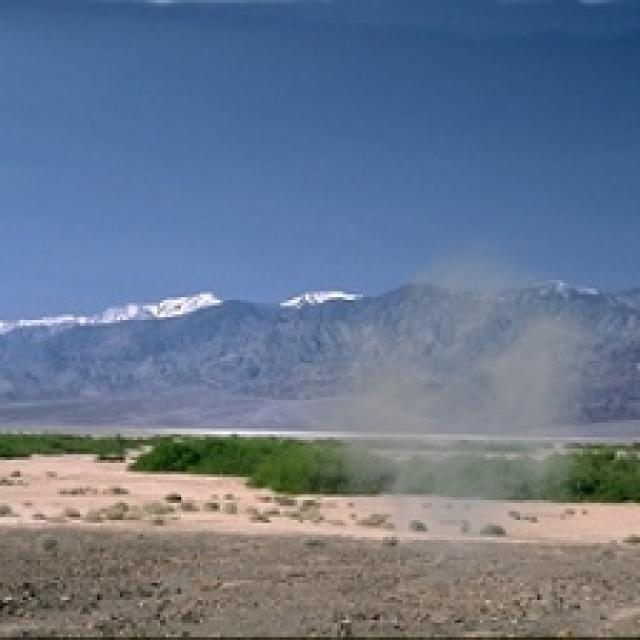smoke: (260, 223, 611, 591)
